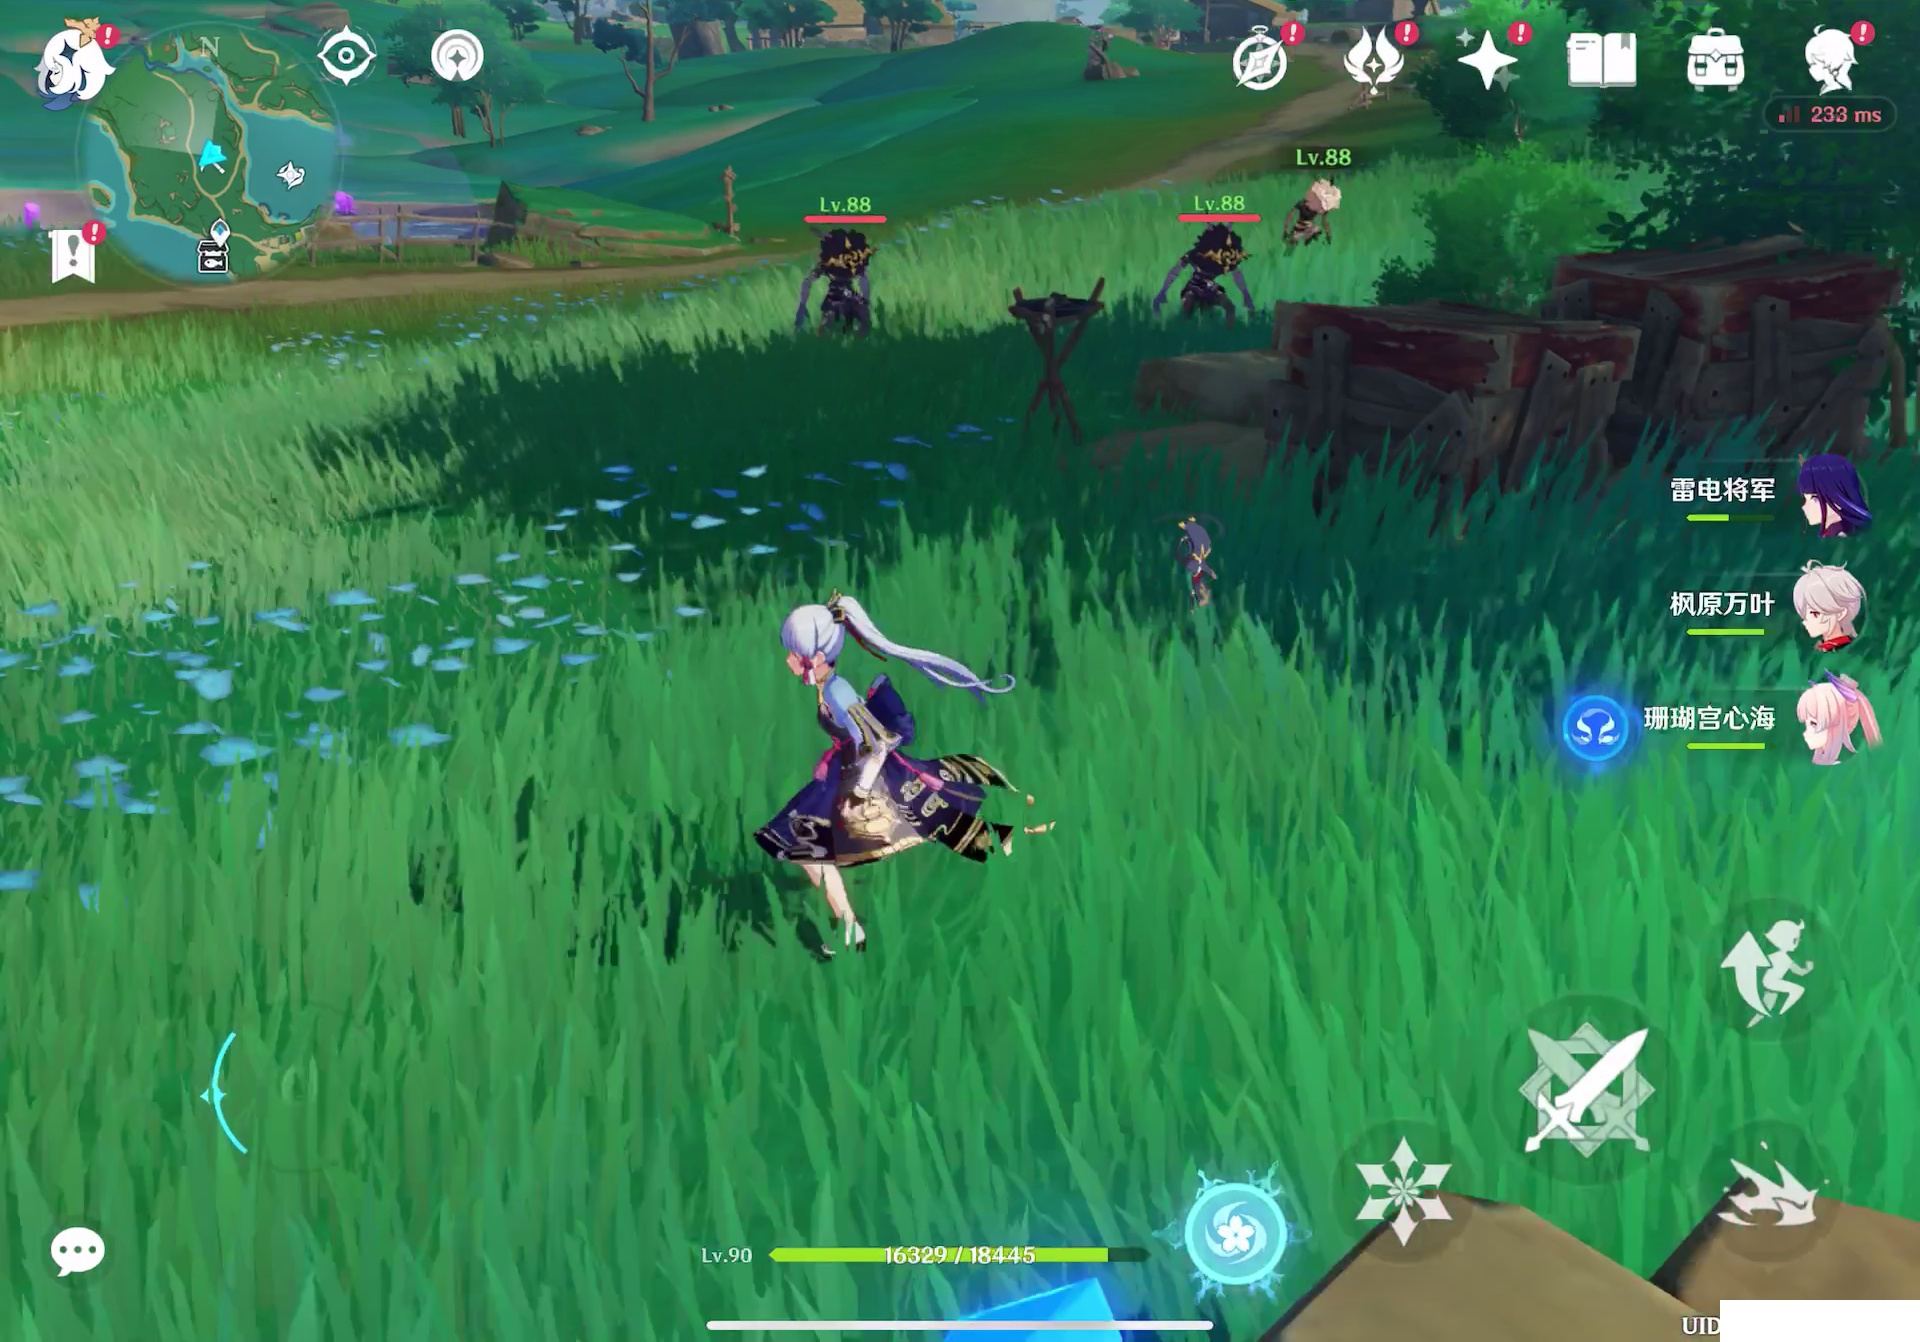丘丘人: (789, 228, 897, 353), (1160, 222, 1261, 324), (1280, 169, 1345, 244)
神里绫龟: (732, 553, 1037, 923)
